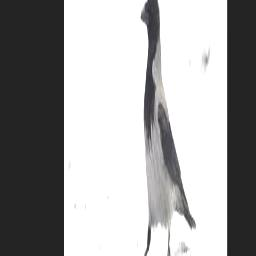Crow: (140, 0, 197, 256)
